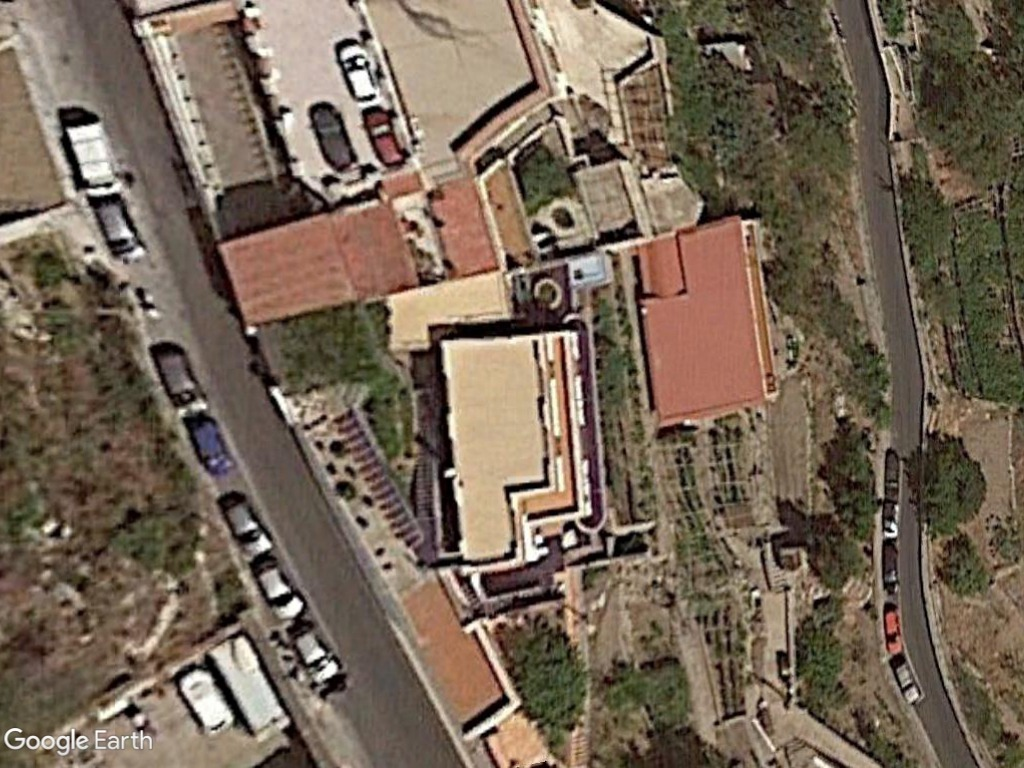car: (153, 347, 211, 422), (219, 495, 277, 560), (252, 562, 310, 623), (334, 44, 381, 108), (362, 105, 407, 171)
